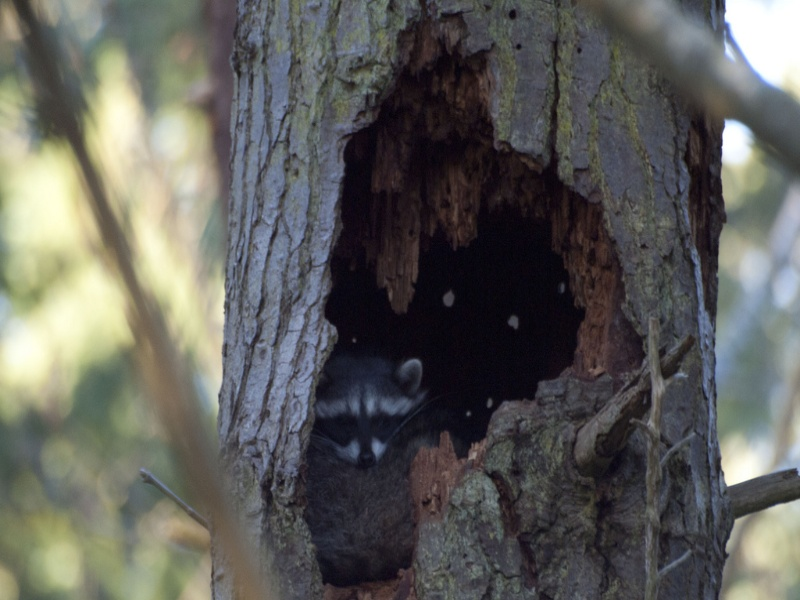raccoon: (272, 344, 476, 584)
